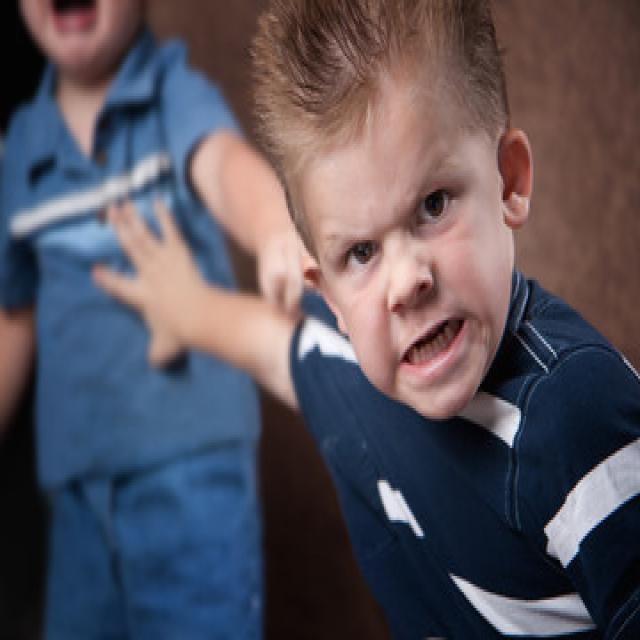fight: (0, 0, 546, 453)
